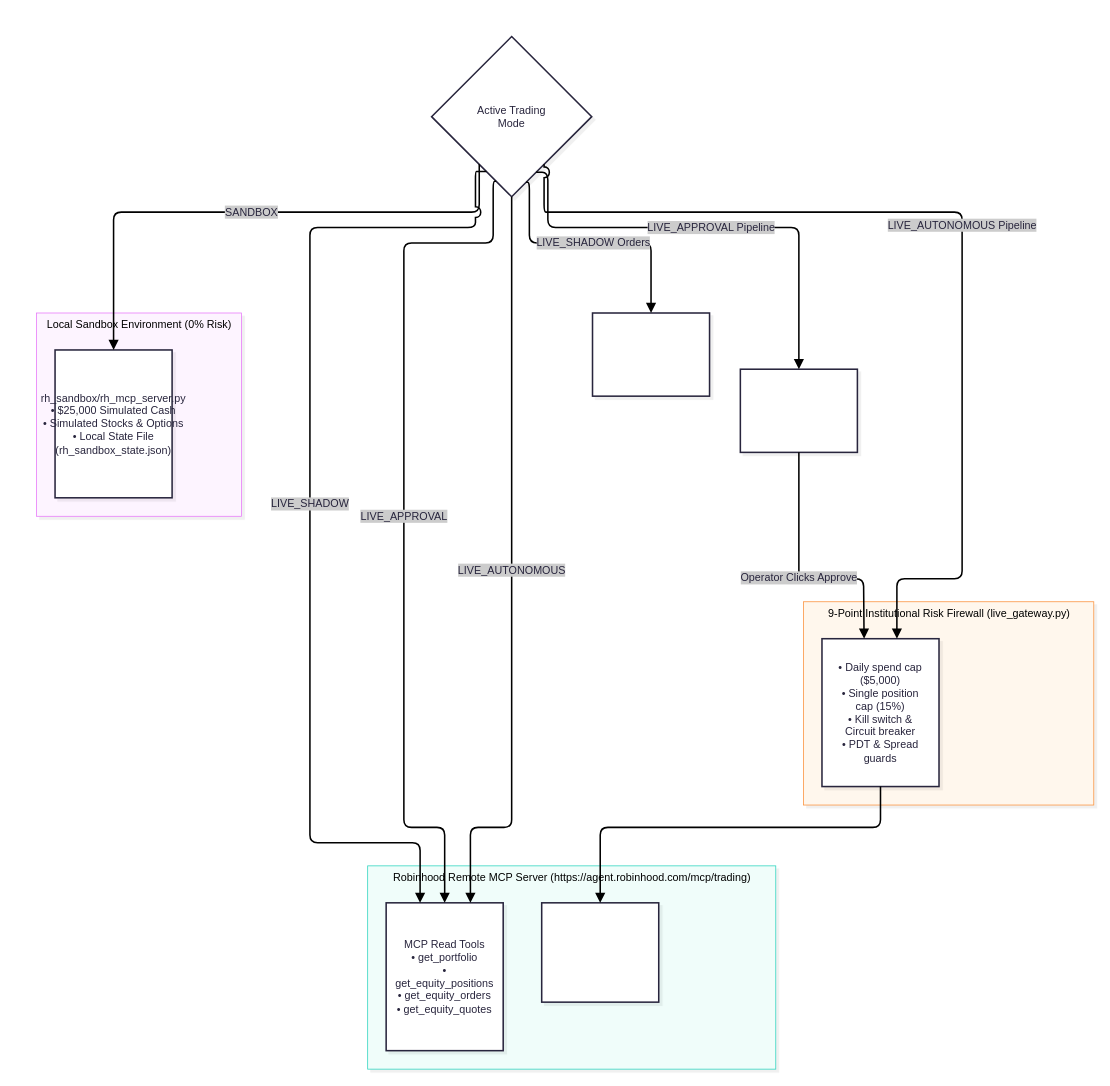
Some shapes in this 1110 by 1086 pixel diagram are drawn without their labels. The shapes that lost their labels are listed below. From the top down, each one's centre as x and y in pixels, then its label:
[652,356]: ledger.jsonl (SHADOW_INTENT) No real orders sent!
[800,412]: Pending Plan HITL Queue Awaiting User Approval
[601,954]: MCP Order Tools • place_equity_order • review_equity_order
